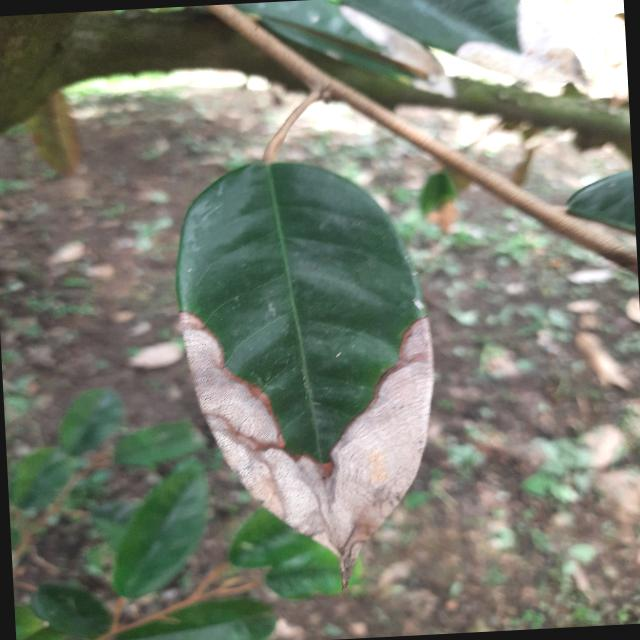Leaf Blight: (162, 138, 456, 604)
